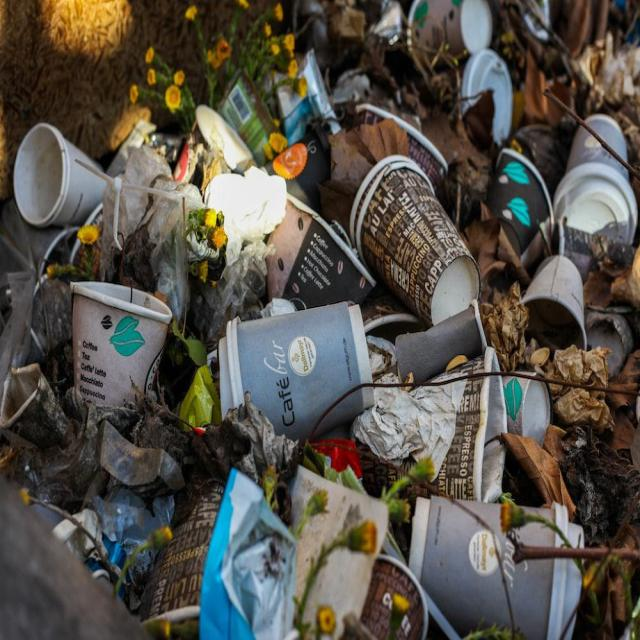cardboard: (161, 477, 426, 640), (204, 290, 386, 441), (416, 478, 577, 637), (497, 100, 598, 340), (345, 166, 475, 316), (59, 272, 172, 421), (10, 110, 96, 244)
trash: (13, 9, 635, 633)
